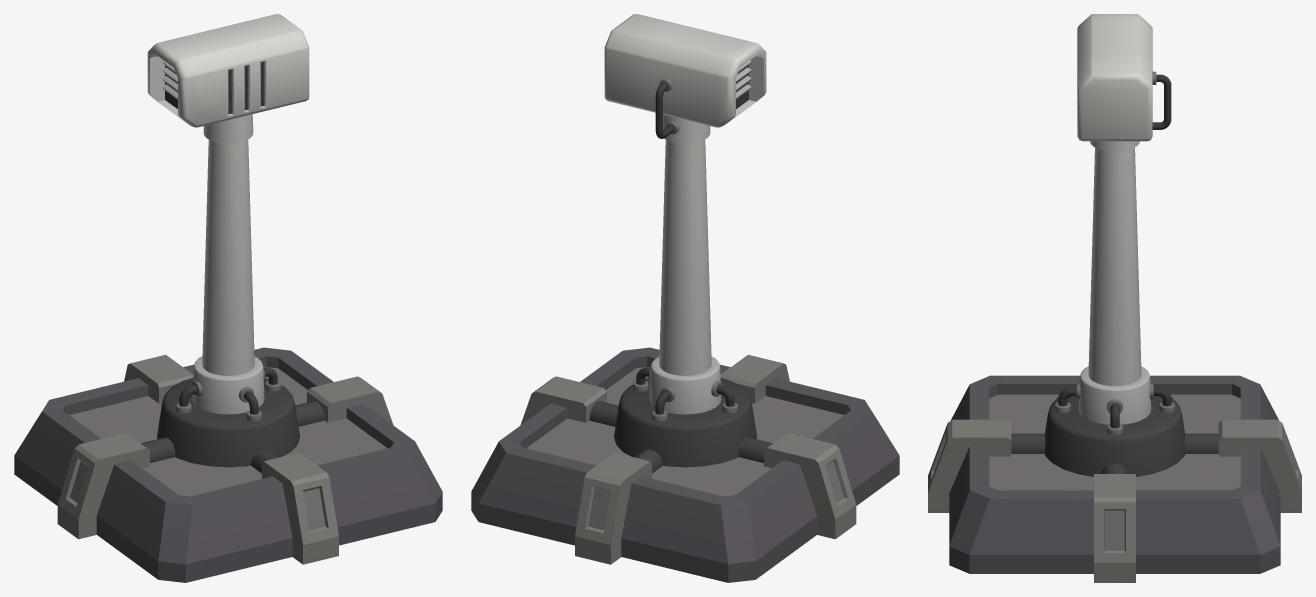
Rendered from windFarm.fbx.
The picture shows the model from 3 angles, left to right: view 1: azimuth 30°, elevation 25°; view 2: azimuth 150°, elevation 25°; view 3: azimuth 270°, elevation 25°; orthographic projection.
Parts seen in each view (by area): view 1: windFarm; view 2: windFarm; view 3: windFarm.
Part boxes in pixels (x1=…): windFarm: x1=14, y1=14, x2=442, y2=582; windFarm: x1=471, y1=14, x2=899, y2=582; windFarm: x1=928, y1=14, x2=1301, y2=582.
Size of the model in its own units: 159 by 217 by 159.
